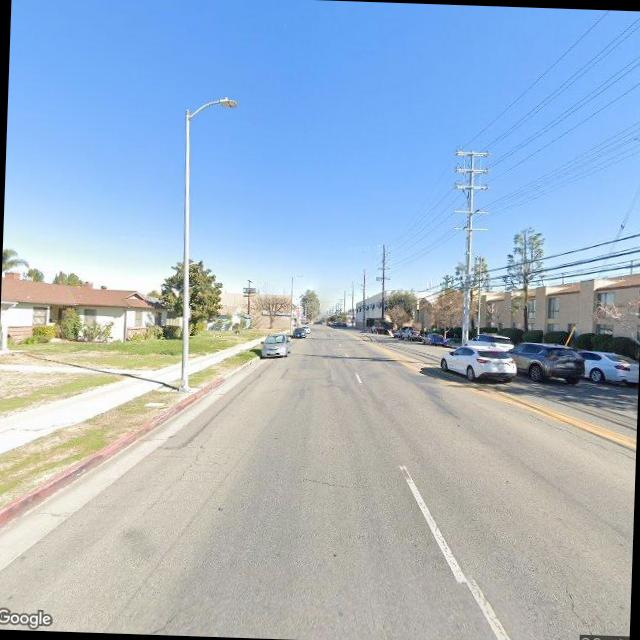crack: (139, 424, 216, 518), (558, 582, 596, 630), (298, 471, 372, 489)
